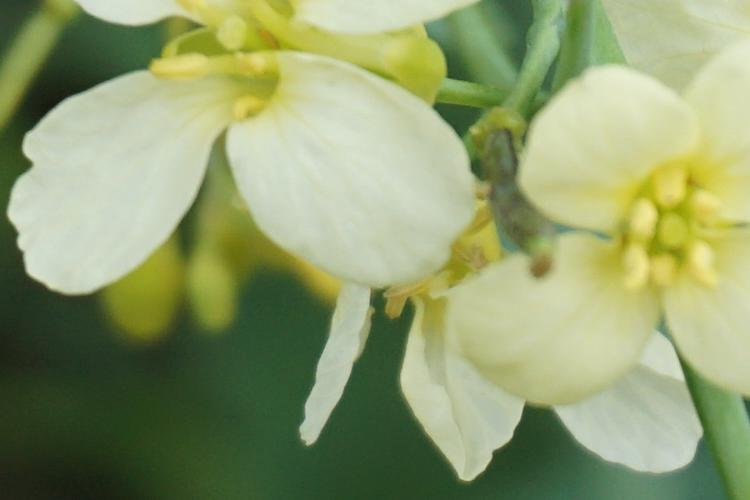white: (30, 1, 466, 286), (454, 66, 750, 382)
